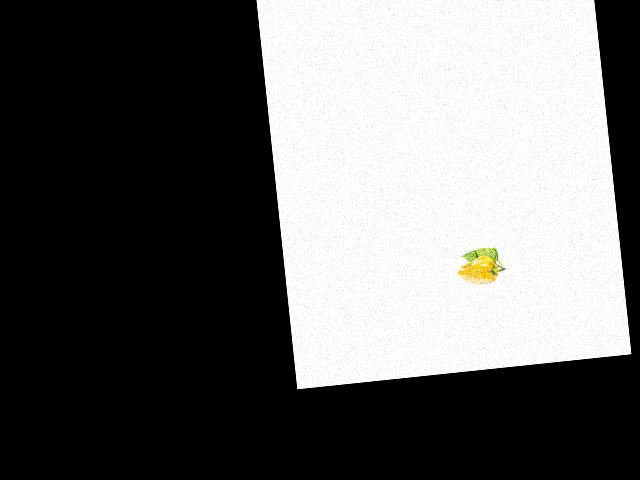bell_pepper: (454, 252, 508, 289)
